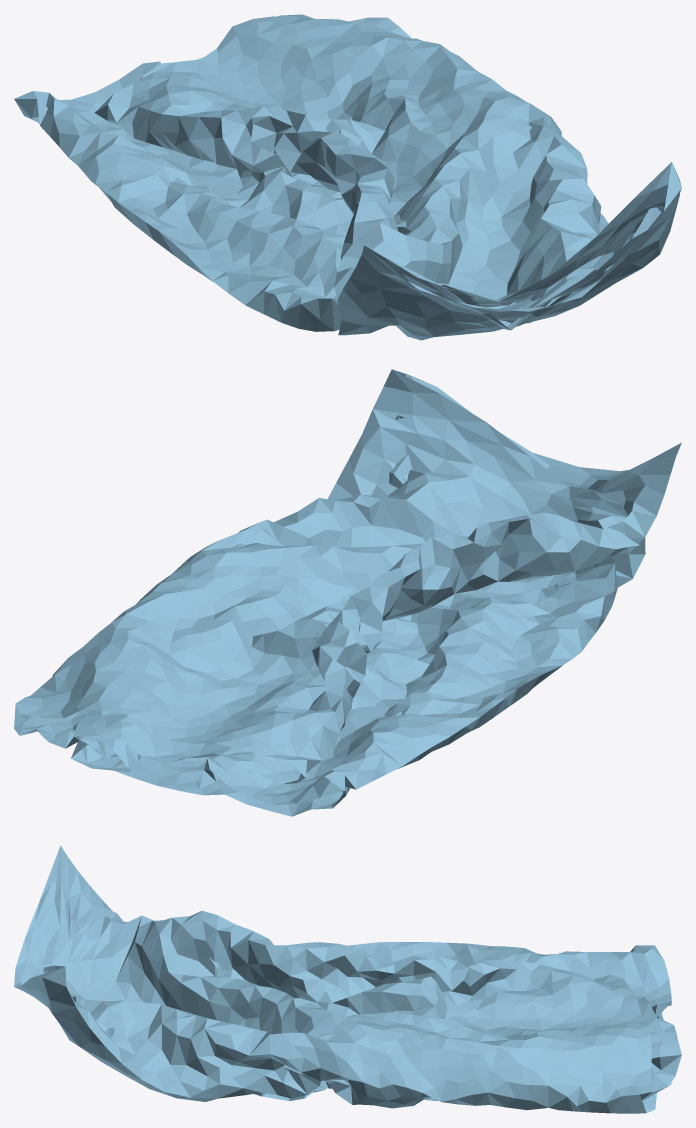
The model's file is frame_03.glb.
3 renders of one model, top to bottom at view 1: azimuth 30°, elevation 25°; view 2: azimuth 150°, elevation 25°; view 3: azimuth 270°, elevation 25°, orthographic. The views are drawn at different scales.
Visible parts, largest first — view 1: frame_03.obj; view 2: frame_03.obj; view 3: frame_03.obj.
Boxes of the visible parts, x1,y1,x2,y2 form: frame_03.obj: (14,14,681,340); frame_03.obj: (14,369,681,816); frame_03.obj: (14,845,681,1113).
Size of the model in its own units: 0.9721 by 0.3881 by 1.72.
